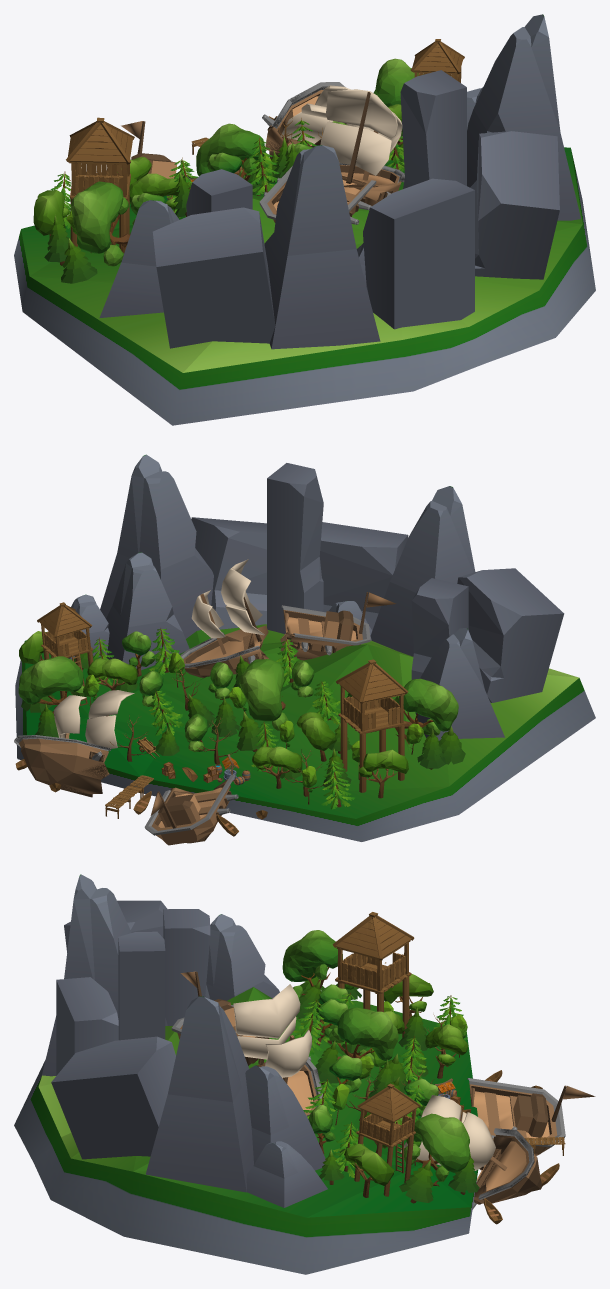
File: island_boat.fbx
3 views of the same model, one above another, from view 1: azimuth 30°, elevation 25°; view 2: azimuth 150°, elevation 25°; view 3: azimuth 270°, elevation 25° (orthographic). The views are drawn at different scales.
Parts seen in each view (by area): view 1: Barrel_01.006; view 2: Barrel_01.006; view 3: Barrel_01.006.
Part boxes in pixels (<box>): Barrel_01.006: <box>14,14,595,425</box>; Barrel_01.006: <box>14,454,595,845</box>; Barrel_01.006: <box>14,874,595,1274</box>.
Size of the model in its own units: 5819 by 2790 by 5744.
